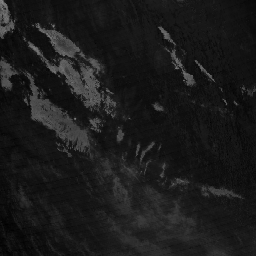Target: (72, 116, 77, 121)
